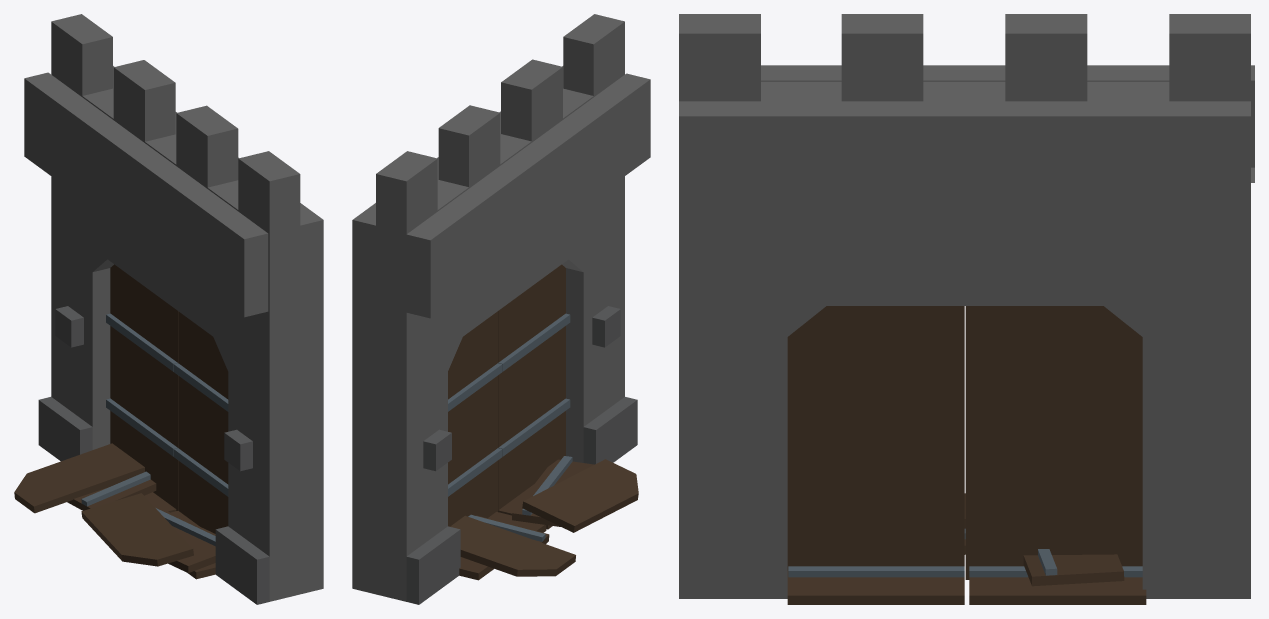
File: WallDoor.fbx
3 renders of one model, left to right at view 1: azimuth 30°, elevation 25°; view 2: azimuth 150°, elevation 25°; view 3: azimuth 270°, elevation 25°, orthographic. The views are drawn at different scales.
Parts seen in each view (by area): view 1: Wall_Door_LVL2, Door1, Door2, part01 (×2), part02 (×2); view 2: Wall_Door_LVL2, Door2, Door1, part01 (×2), part02 (×2), part03; view 3: Wall_Door_LVL2, Door2, Door1, part03 (×2), part02.
Boxes of the visible parts, box(x1,y1,x2,y2) form: Wall_Door_LVL2: box(24, 14, 323, 604); Door1: box(106, 264, 178, 510); Door2: box(173, 311, 228, 533); part01 (×2): box(14, 443, 193, 566); part02 (×2): box(67, 471, 215, 573); Wall_Door_LVL2: box(352, 14, 650, 604); Door2: box(498, 264, 570, 510); Door1: box(448, 311, 502, 526); part01 (×2): box(450, 459, 638, 576); part02 (×2): box(468, 456, 594, 543); part03: box(459, 512, 546, 580); Wall_Door_LVL2: box(679, 14, 1254, 598); Door2: box(787, 306, 964, 570); Door1: box(965, 306, 1142, 579); part03 (×2): box(787, 566, 1146, 604); part02: box(1023, 549, 1124, 586).
Size of the model in its own units: 5.98 by 15.07 by 14.29.
